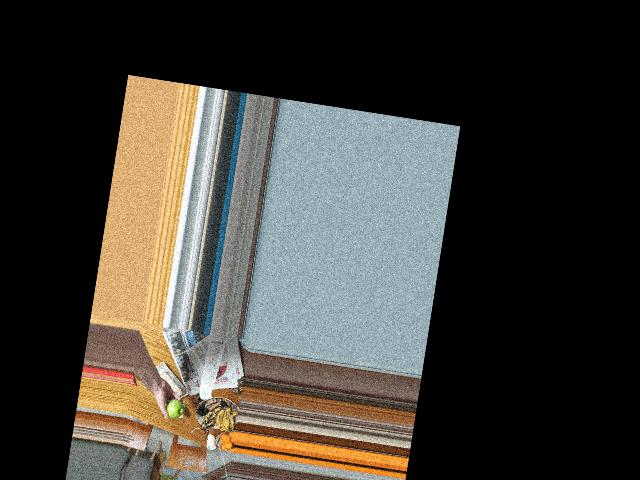apple: (160, 395, 186, 420)
